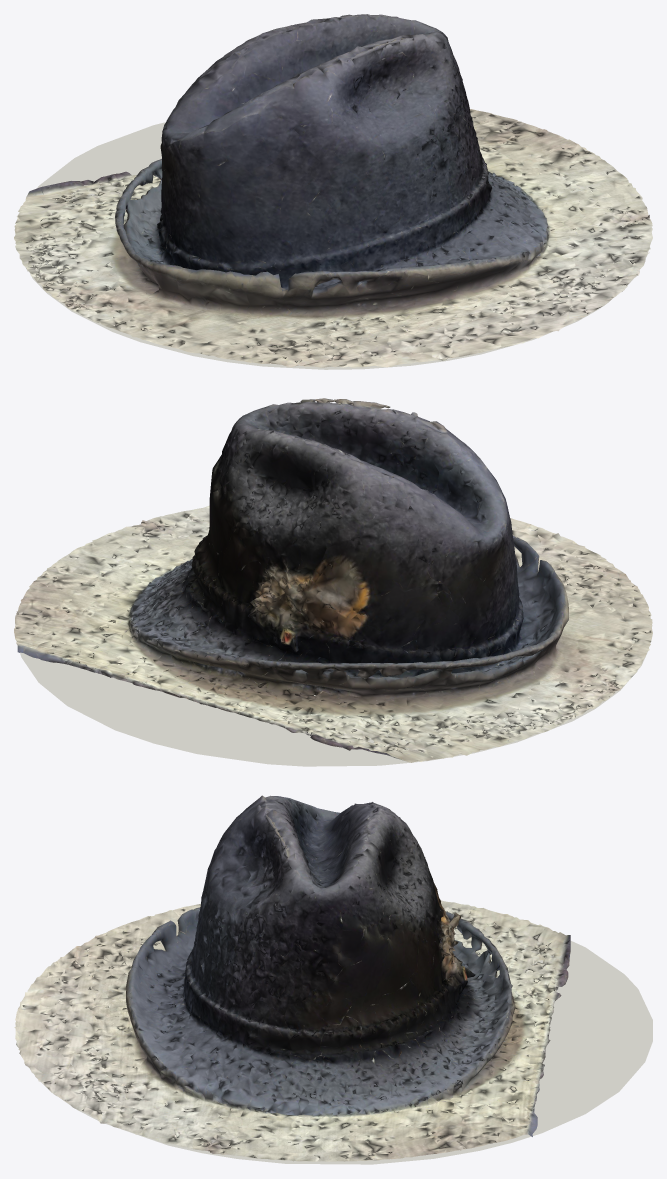
The model's file is sombrero.glb.
3 views of the same model, one above another, from view 1: azimuth 30°, elevation 25°; view 2: azimuth 150°, elevation 25°; view 3: azimuth 270°, elevation 25° (orthographic).
Visible parts, largest first — view 1: objeto, base_rellenada; view 2: objeto, base_rellenada; view 3: objeto, base_rellenada.
Part boxes in pixels (x1,y1,x2,y2): objeto: [14, 14, 652, 367]; base_rellenada: [32, 122, 633, 369]; objeto: [14, 398, 652, 762]; base_rellenada: [20, 529, 647, 766]; objeto: [14, 795, 570, 1161]; base_rellenada: [22, 941, 652, 1164].
Size of the model in its own units: 0.3854 by 0.1454 by 0.3839.
2 materials, 1 textured.
